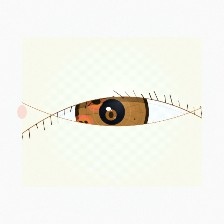foreign_body_visible: (63, 110, 100, 139)
